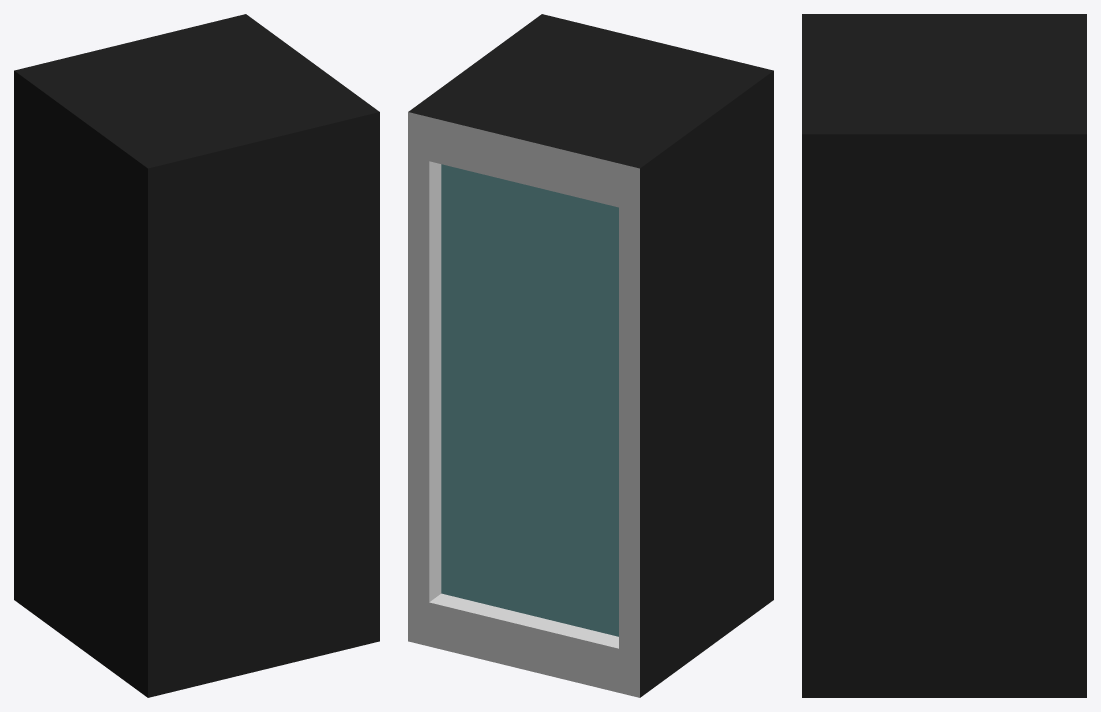
The model's file is Building_Side.fbx.
3 renders of one model, left to right at view 1: azimuth 30°, elevation 25°; view 2: azimuth 150°, elevation 25°; view 3: azimuth 270°, elevation 25°, orthographic. The views are drawn at different scales.
Visible parts, largest first — view 1: pCube12; view 2: pCube12; view 3: pCube12.
Part boxes in pixels (left/top/right/bottom): pCube12: left=14, top=14, right=379, bottom=697; pCube12: left=408, top=14, right=773, bottom=697; pCube12: left=802, top=14, right=1086, bottom=697.
Bounding box in the file's own units: 100 × 218 × 100.
